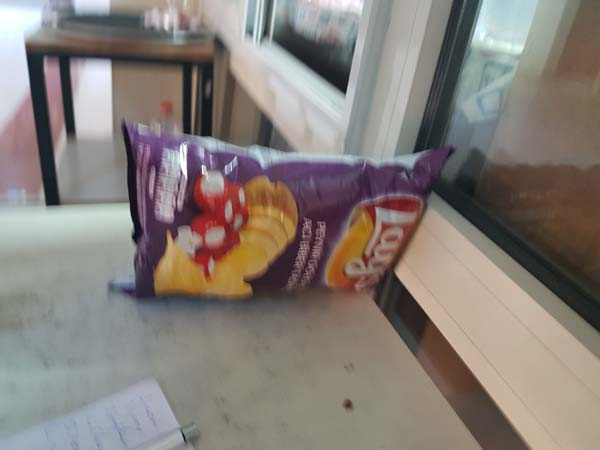layspeynirsoslu: (118, 118, 454, 306)
